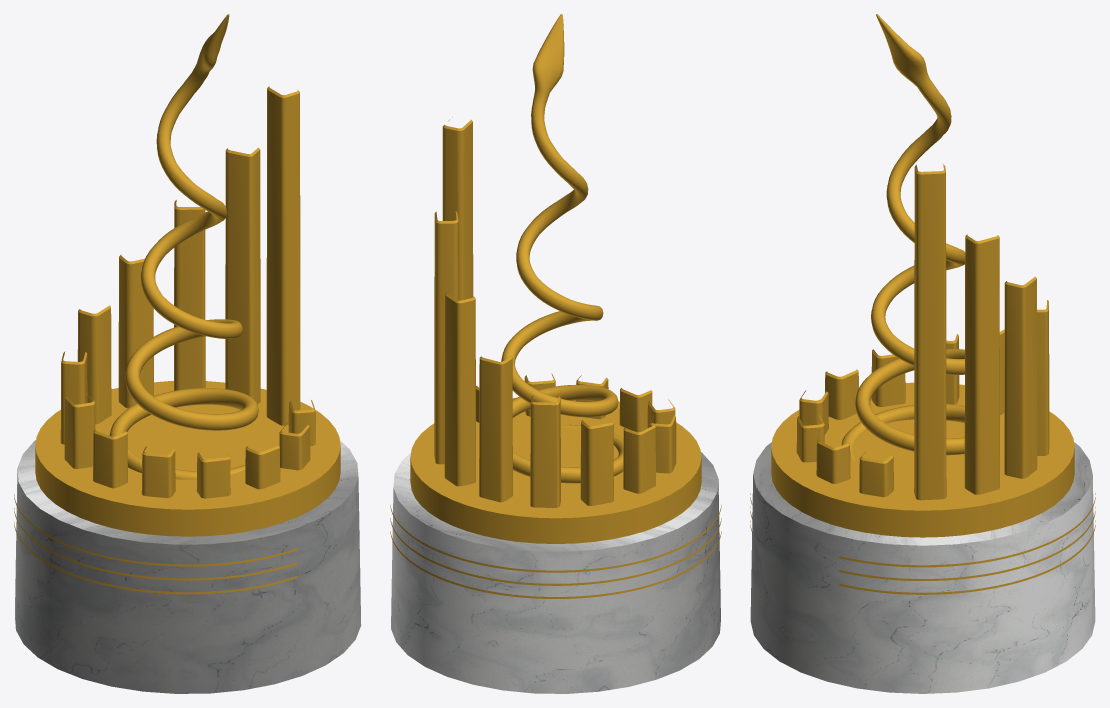
Rendered from economics.glb.
The picture shows the model from 3 angles, left to right: view 1: azimuth 30°, elevation 25°; view 2: azimuth 150°, elevation 25°; view 3: azimuth 270°, elevation 25°; orthographic projection. The views are drawn at different scales.
Parts seen in each view (by area): view 1: marble_column, gold_cap, growth_arrow, bar_13, bar_12, bar_11, bar_10, bar_9, bar_7, bar_6, bar_5, bar_4 (+7 smaller); view 2: marble_column, gold_cap, growth_arrow, bar_11, bar_10, bar_13, bar_12, bar_9, bar_8, bar_7, bar_4, bar_6 (+3 smaller); view 3: marble_column, gold_cap, bar_13, growth_arrow, bar_12, bar_11, bar_10, bar_5, bar_1, bar_2, bar_6, bar_3 (+5 smaller).
Boxes of the visible parts, x1,y1,x2,y2 form: marble_column: [15, 440, 361, 693]; gold_cap: [35, 381, 340, 536]; growth_arrow: [109, 14, 258, 479]; bar_13: [266, 86, 300, 425]; bar_12: [225, 147, 260, 404]; bar_11: [174, 200, 205, 390]; bar_10: [118, 254, 153, 408]; bar_9: [77, 305, 111, 424]; bar_7: [64, 393, 95, 468]; bar_6: [93, 429, 127, 488]; bar_5: [141, 446, 175, 498]; bar_4: [196, 451, 230, 498]; marble_column: [391, 452, 720, 693]; gold_cap: [410, 397, 701, 543]; growth_arrow: [501, 14, 623, 483]; bar_11: [444, 292, 475, 486]; bar_10: [479, 355, 512, 502]; bar_13: [442, 117, 473, 300]; bar_12: [434, 211, 458, 464]; bar_9: [530, 395, 560, 507]; bar_8: [580, 418, 613, 505]; bar_7: [623, 425, 655, 493]; bar_4: [619, 388, 652, 432]; bar_6: [649, 414, 676, 473]; marble_column: [750, 442, 1095, 693]; gold_cap: [771, 382, 1074, 537]; bar_13: [914, 164, 946, 500]; growth_arrow: [841, 14, 965, 462]; bar_12: [964, 234, 999, 494]; bar_11: [1004, 277, 1037, 478]; bar_10: [1037, 300, 1049, 455]; bar_5: [825, 369, 858, 419]; bar_1: [859, 452, 893, 497]; bar_2: [816, 439, 850, 483]; bar_6: [871, 349, 905, 406]; bar_3: [796, 414, 824, 462].
Size of what is drawn, in the model's own units: 0.4543 by 0.8921 by 0.4543.
3 materials, 1 textured.
